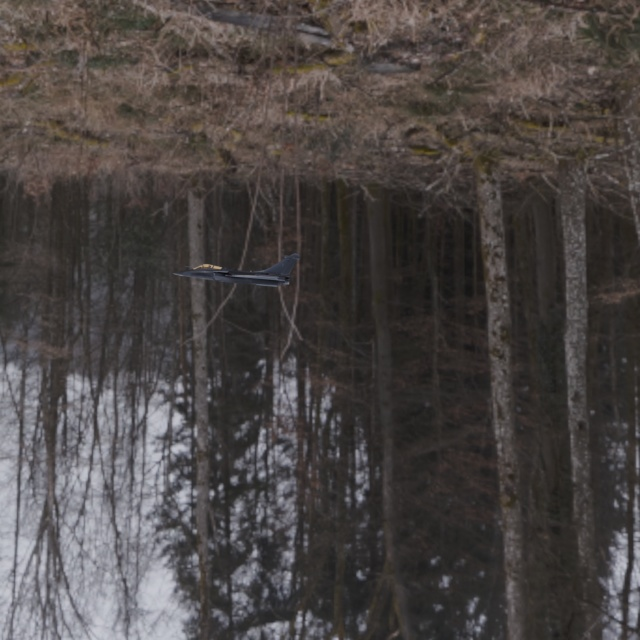dassault_rafale: (169, 238, 301, 292)
